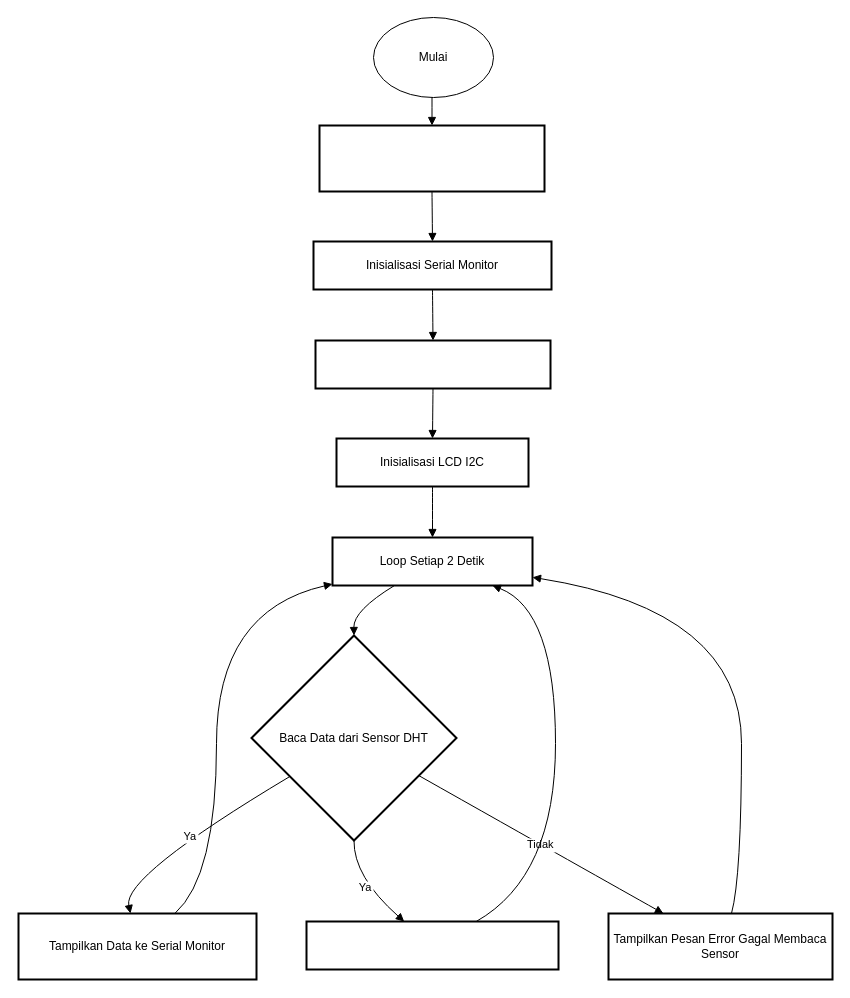
The diagram is 850 pixels wide and 998 high, and some of its shapes have lost their labels. The box of each missing label's shape, as (x1, y1, x2, y2) in pixels:
Inisialisasi Pin dan Tipe Sensor DHT22: (318, 124, 545, 192)
Inisialisasi Sensor DHT22: (314, 339, 551, 389)
Tampilkan Data ke LCD I2C: (305, 920, 559, 970)
